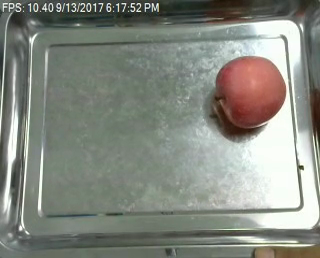Apple: (211, 56, 290, 130)
